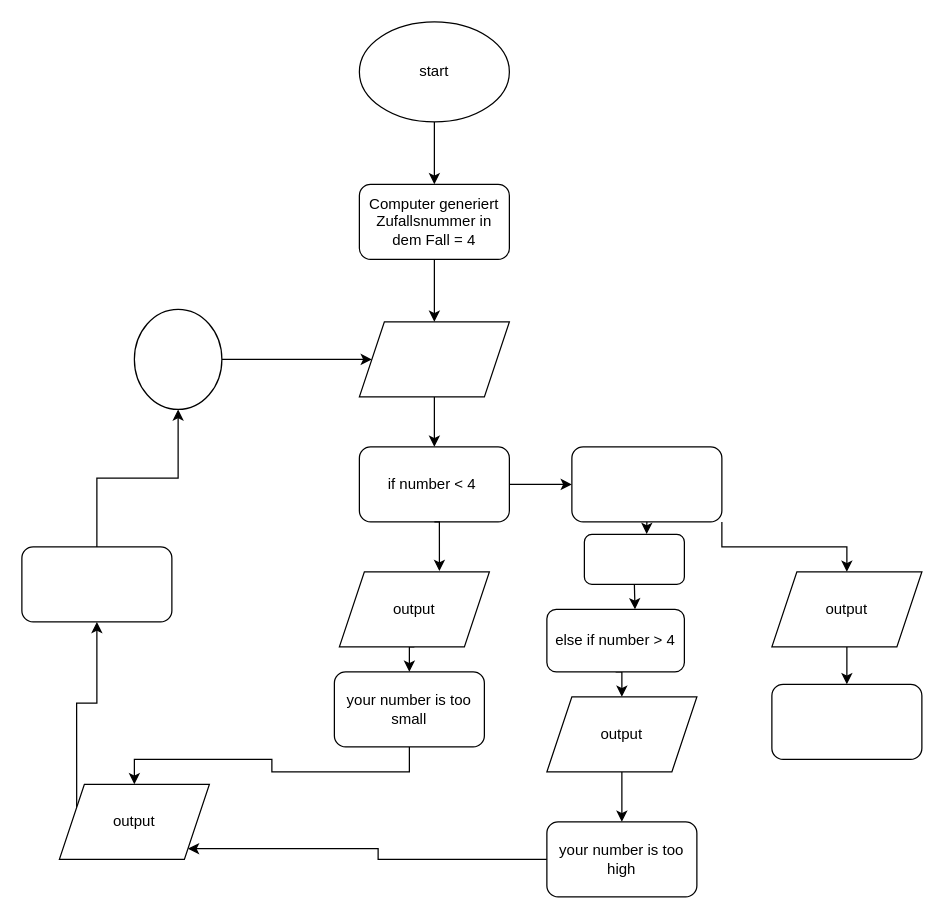
Image size: 944x919. Some labels were removed from this diagram. The shapes that lost their labels are listed below. From the top down, each one's box as (x1, y1, x2, y2) in pixels, then its label:
(358, 321, 509, 397): User Input
(571, 446, 722, 522): else if user Inuput = 4
(583, 533, 684, 584): if condition is not true try
(21, 546, 172, 622): try again
(771, 683, 922, 759): you guessed correctly
